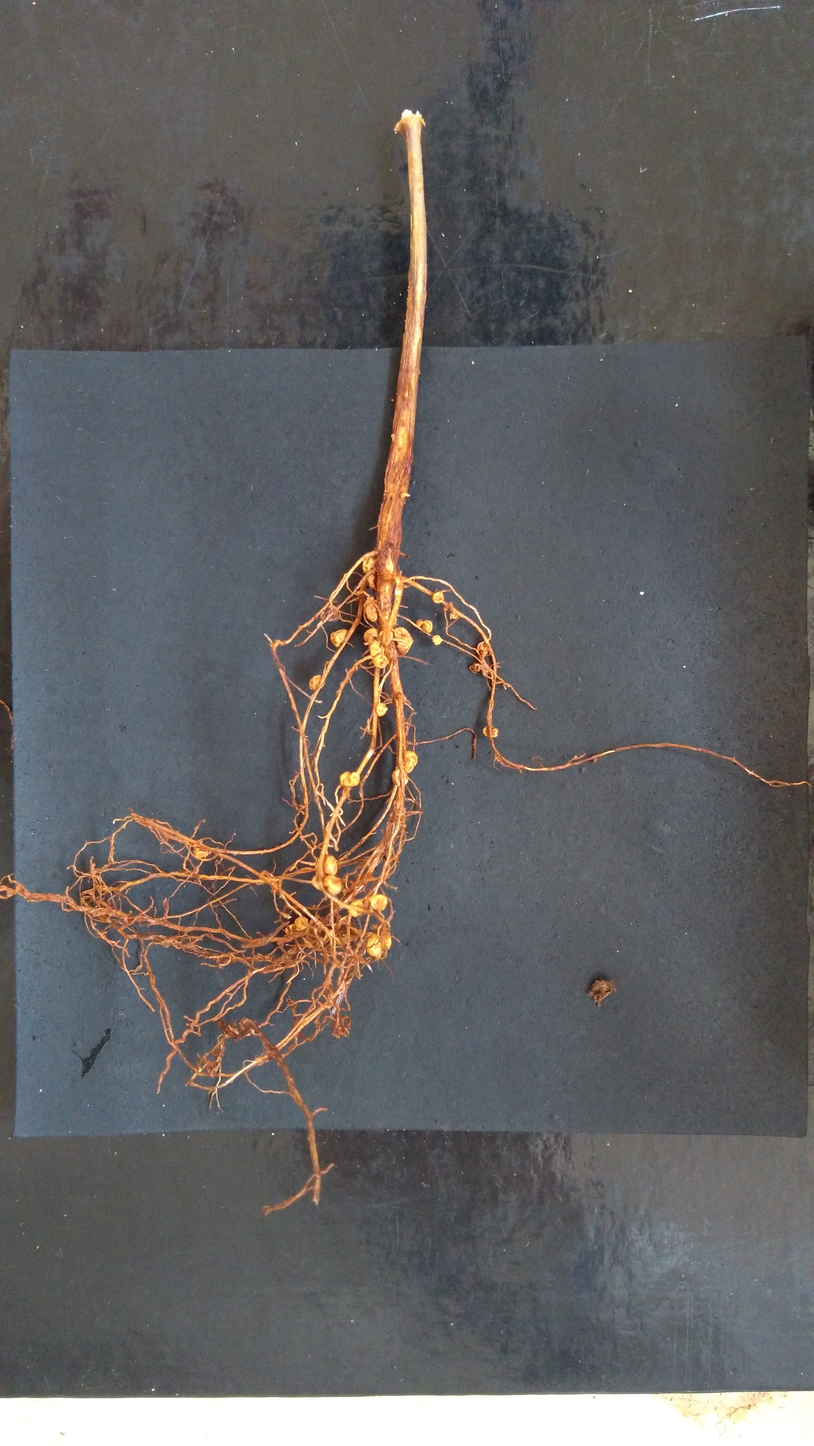nodule: (393, 626, 414, 655), (395, 749, 419, 774), (323, 875, 344, 895), (367, 893, 388, 912), (329, 628, 349, 647), (338, 771, 361, 787), (365, 934, 381, 957), (391, 769, 410, 788), (347, 898, 365, 917), (307, 674, 326, 691), (323, 854, 338, 875), (415, 618, 433, 634), (363, 627, 379, 644), (364, 604, 378, 623), (365, 573, 379, 592), (361, 555, 374, 575), (293, 915, 309, 931), (482, 725, 500, 739), (324, 608, 340, 623), (310, 874, 323, 892), (373, 656, 390, 669), (191, 846, 209, 858), (375, 702, 388, 717), (381, 933, 392, 950), (476, 642, 489, 656), (468, 662, 484, 673), (430, 634, 443, 647), (370, 642, 382, 656), (432, 591, 444, 604), (362, 596, 374, 608), (284, 923, 295, 933), (449, 612, 458, 621), (592, 758, 598, 764)
